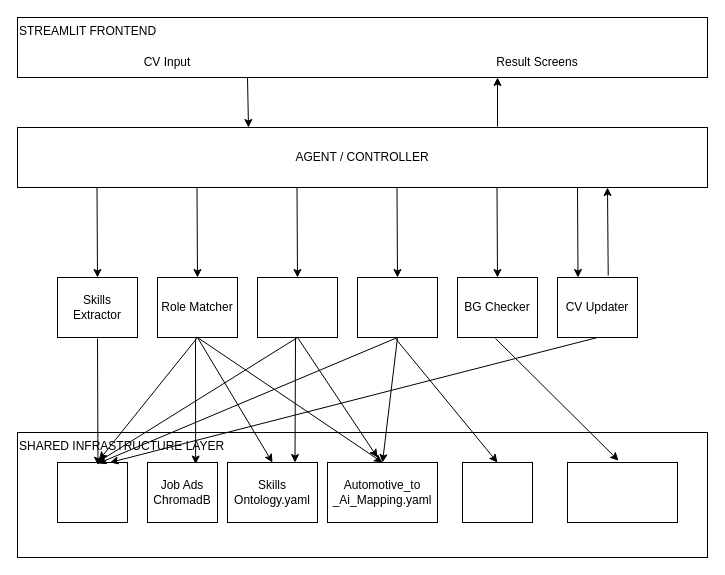
This 725x575 diagram has some shape labels left out. The shapes that lost their labels are listed below. From the top down, each one's centre as x and y in pixels, then its label:
pixel 297 307: Gap Analysis
pixel 397 307: Roadmap Generator
pixel 92 492: Claude API
pixel 497 492: Courses ChromadB
pixel 622 492: BG_Info.yaml
